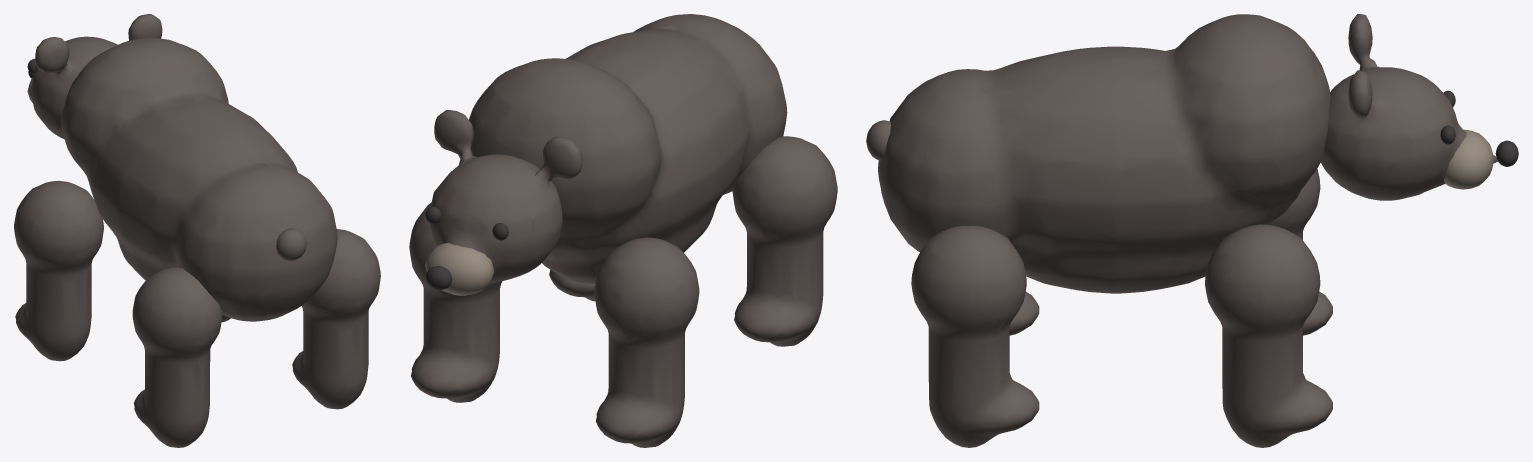
The model's file is bear.glb.
3 renders of one model, left to right at view 1: azimuth 30°, elevation 25°; view 2: azimuth 150°, elevation 25°; view 3: azimuth 270°, elevation 25°, orthographic. The views are drawn at different scales.
Parts seen in each view (by area): view 1: body, leg_front_L, leg_back_L, leg_back_R, head, tail; view 2: body, head, leg_front_L, leg_back_L, leg_front_R, leg_back_R; view 3: body, leg_front_R, leg_back_R, head, leg_front_L, tail, leg_back_L.
Boxes of the visible parts, <box> form: body: <box>61,38,337,321</box>; leg_front_L: <box>14,180,103,361</box>; leg_back_L: <box>132,267,222,447</box>; leg_back_R: <box>292,229,380,409</box>; head: <box>27,14,162,139</box>; tail: <box>276,228,306,260</box>; body: <box>469,14,787,283</box>; head: <box>425,110,582,295</box>; leg_front_L: <box>594,237,699,447</box>; leg_back_L: <box>732,136,837,346</box>; leg_front_R: <box>409,202,502,402</box>; leg_back_R: <box>549,269,595,301</box>; body: <box>878,14,1330,293</box>; leg_front_R: <box>1205,224,1332,447</box>; leg_back_R: <box>911,225,1039,447</box>; head: <box>1321,14,1518,200</box>; leg_front_L: <box>1268,168,1332,335</box>; tail: <box>866,120,890,160</box>; leg_back_L: <box>1009,291,1039,335</box>.
Bounding box in the file's own units: 1.31 × 1.59 × 2.54.
